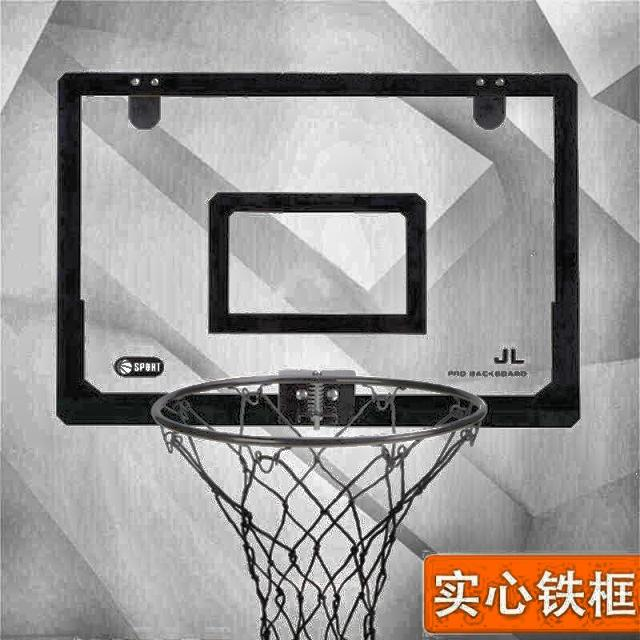rim: (156, 382, 488, 640)
